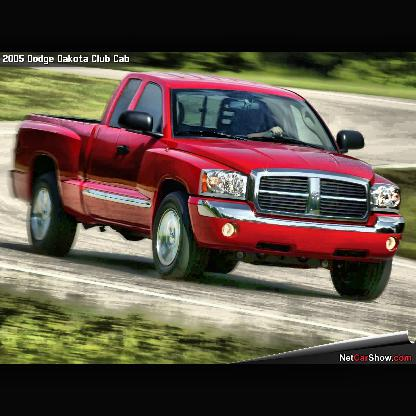Dodge Dakota Club Cab 2007: (12, 72, 407, 303)
